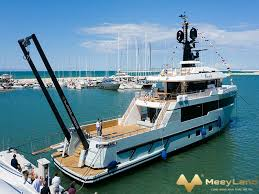tau_dansu: (22, 38, 248, 172)
